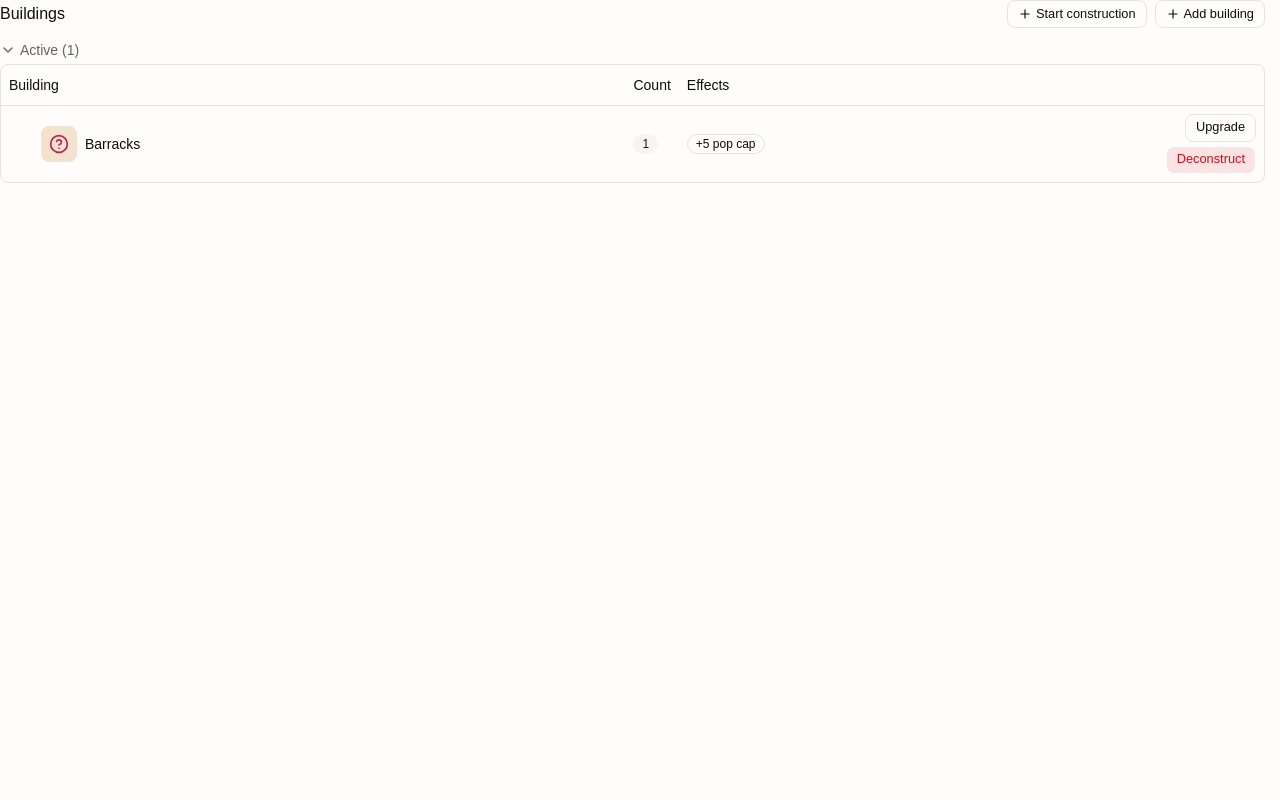
Scenario: SettlementBuildingsPanel › closes confirm dialog without deconstructing when cancel is clicked
The image size is (1280, 800).
Expected: the text "Barracks" is shown, [41,126,140,162]
Click the button with aria-label "Deconstruct Barracks".
click(1211, 160)  # box [1166,146,1256,174]
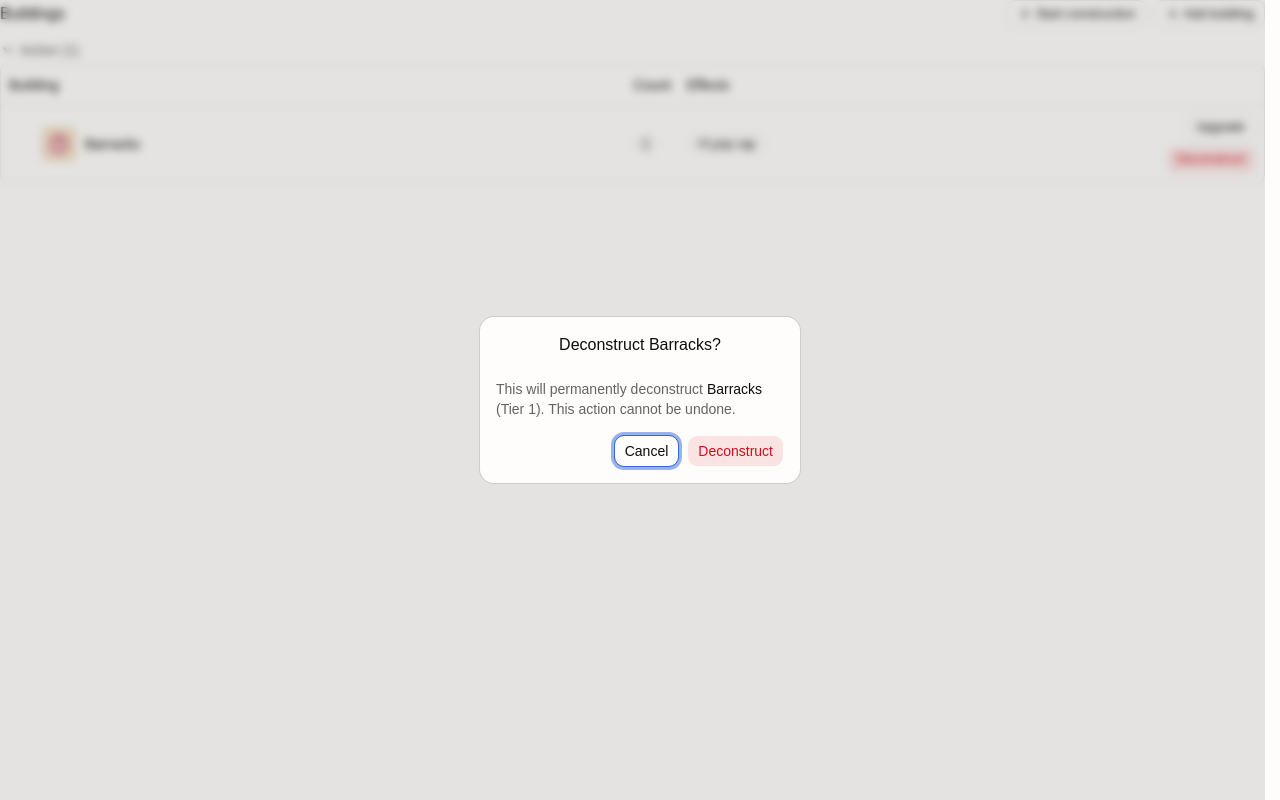
Click the button "Cancel".
click(646, 451)  # box [614,435,679,467]
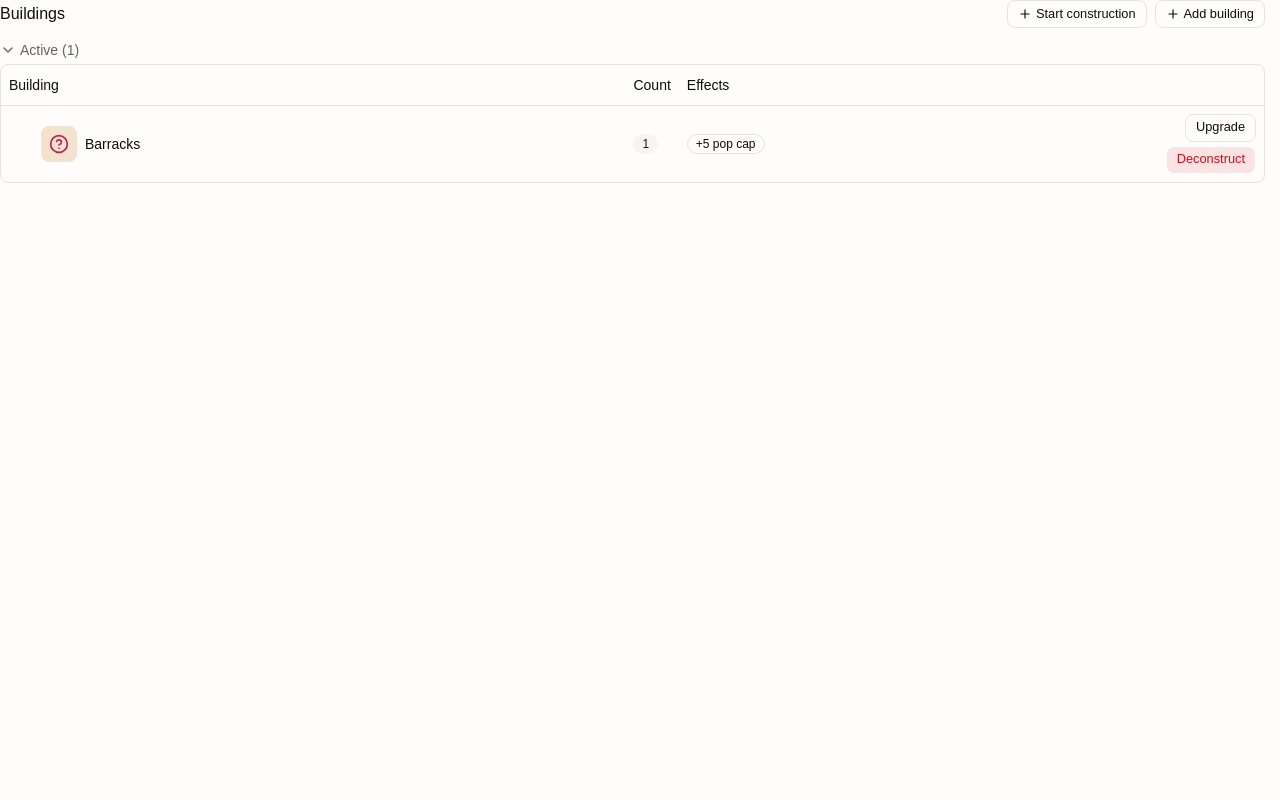
Now the heading "Deconstruct Barracks?" is gone
